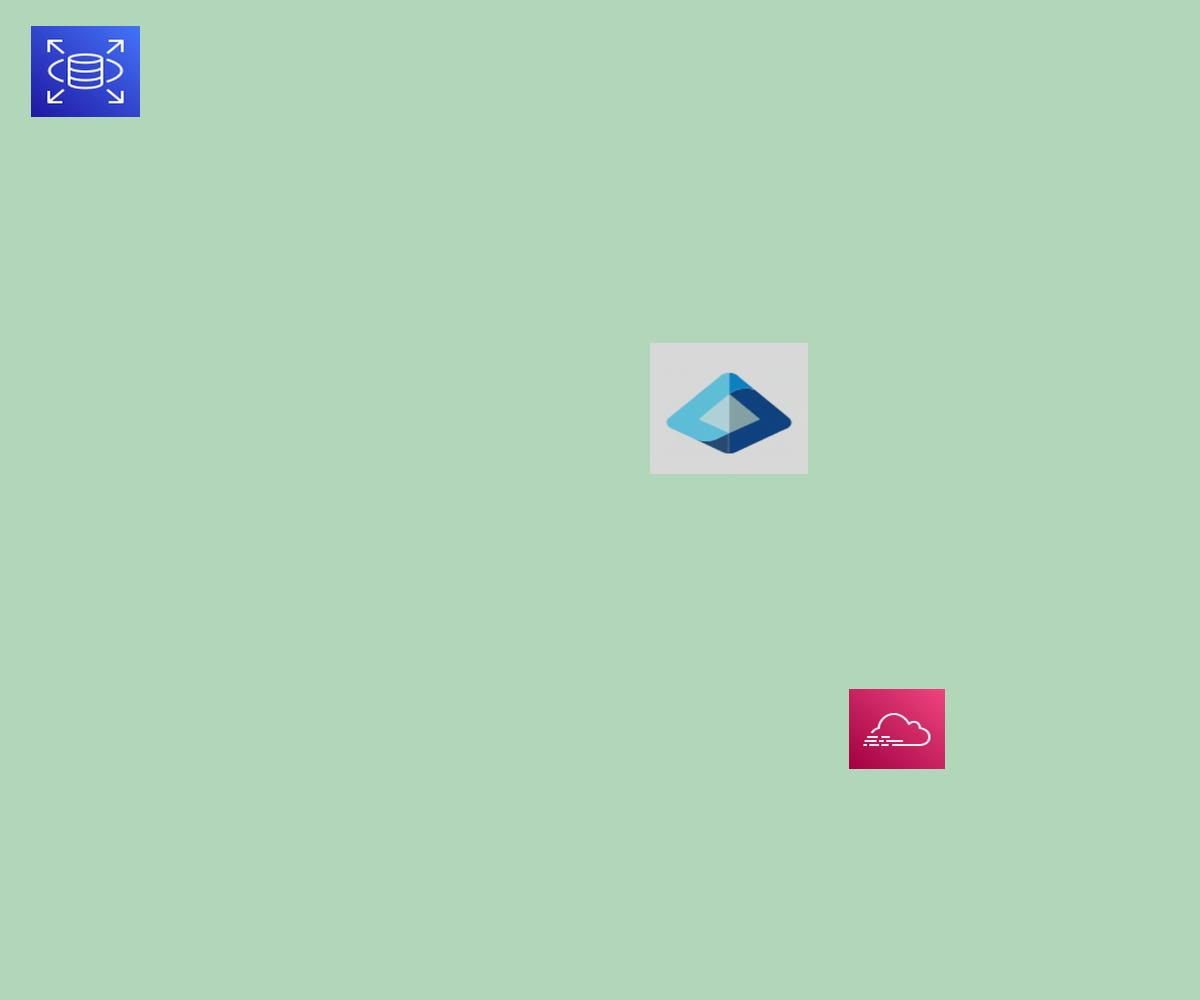AWS-CloudTrail: (849, 689, 945, 769)
AWS-RDS: (31, 26, 140, 117)
Azure_microsoft_entra: (650, 343, 808, 474)
